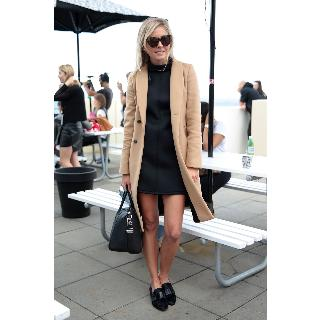loafers: (141, 275, 183, 315)
